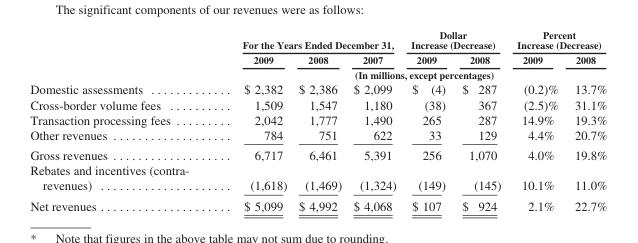table: (29, 28, 606, 212)
table column: (29, 28, 215, 212), (215, 28, 292, 212), (346, 28, 403, 212), (508, 28, 565, 212), (453, 28, 508, 212), (292, 28, 346, 212), (403, 28, 453, 212), (565, 28, 606, 212)
table column header: (29, 28, 606, 81)
table row: (29, 162, 606, 195), (29, 28, 606, 52), (29, 144, 606, 162), (29, 127, 606, 144), (29, 195, 606, 212), (29, 111, 606, 127), (29, 52, 606, 67), (29, 81, 606, 96), (29, 96, 606, 111), (29, 67, 606, 81)
table spanning cell: (215, 67, 606, 81), (215, 28, 403, 52), (403, 28, 508, 52), (508, 28, 606, 52)
